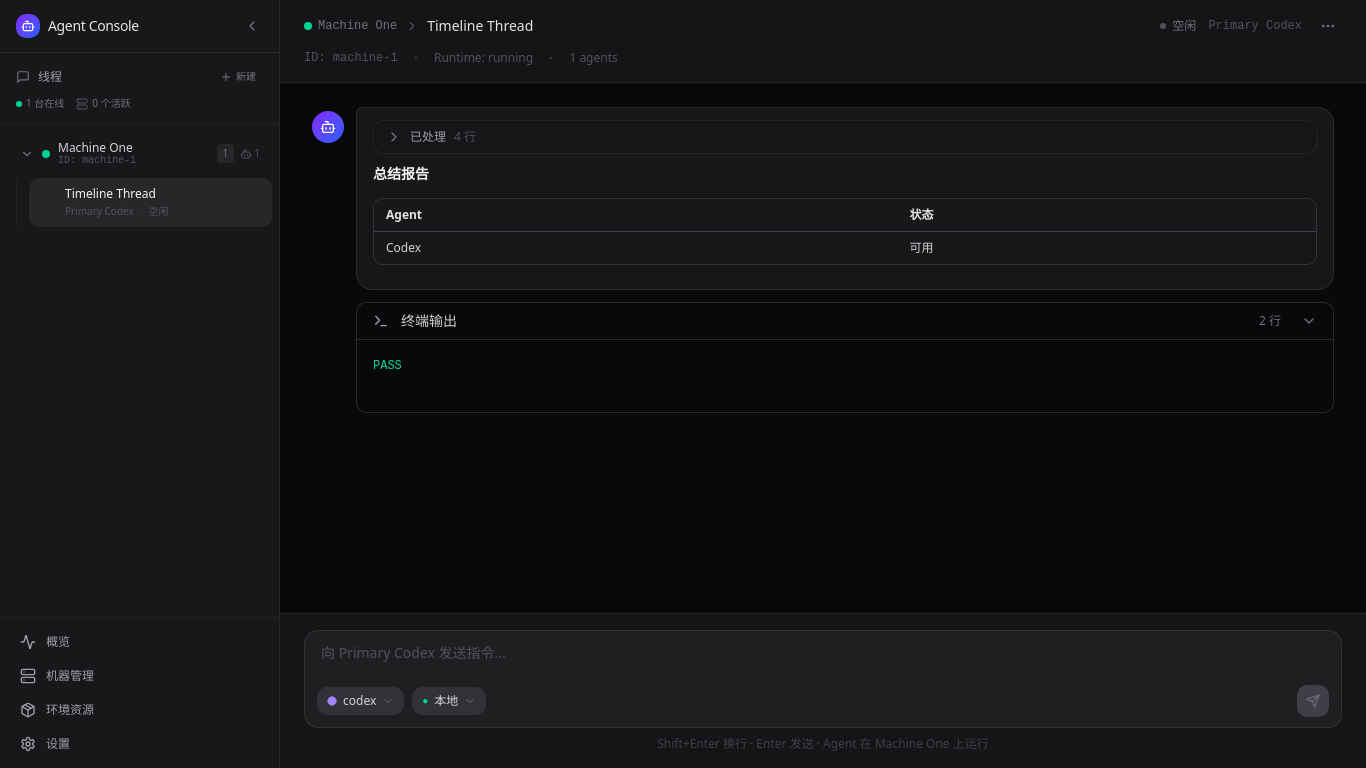
renders timeline history as one markdown answer with collapsible process and terminal output
Check: the text "总结报告" is shown, box [373,164,429,183]
Check: the table is shown, box [374,199,1316,264]
Click the text "已处理".
click(428, 137)  # box [410,129,446,145]
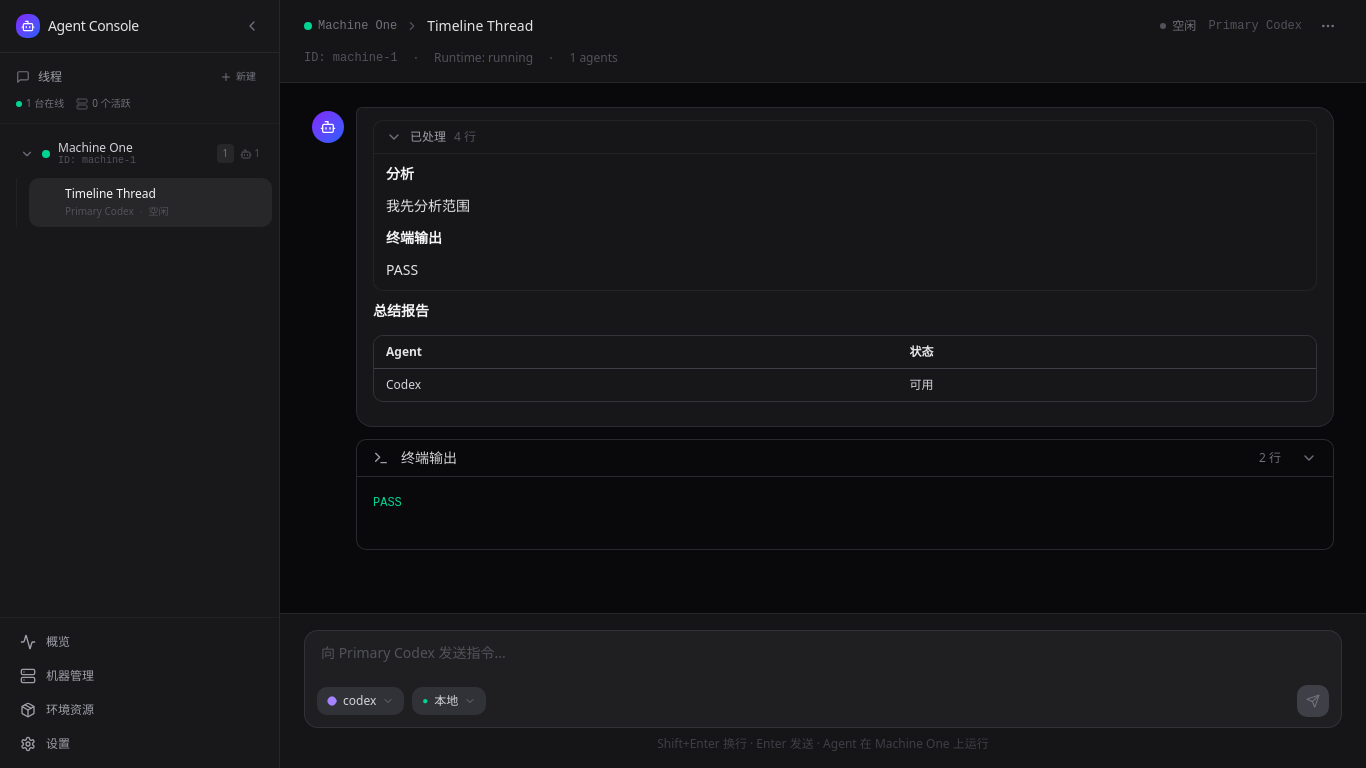
Check: the text "我先分析范围" is shown, box [386,196,470,215]
